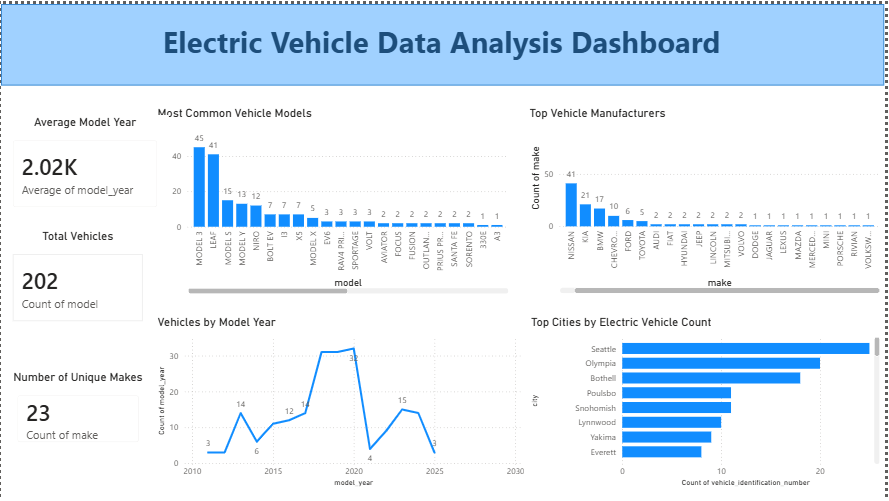

The dashboard page shown, as its layout file describes it:
{"tool":"powerbi","page":{"name":"Page 1","canvas":[1280,720],"ordinal":0},"visuals":[{"type":"cardVisual","title":"Average Model Year","fields":{"Data":["Avg(Sheet1.model_year)"]},"box":[0,200,230,134],"z":0},{"type":"cardVisual","title":"Total Vehicles","fields":{"Data":["CountNonNull(Sheet1.model)"]},"box":[0,388,214,130],"z":1000},{"type":"cardVisual","title":"Number of Unique Makes","fields":{"Data":["Count(Sheet1.make)"]},"box":[6,536,198,124],"z":2000},{"type":"shape","box":[0,0,1280,150],"z":3000},{"type":"textbox","box":[112,0,1056,150],"z":4000},{"type":"clusteredColumnChart","title":"Most Common Vehicle Models","fields":{"Y":["CountNonNull(Sheet1.model)"],"Category":["Sheet1.model"]},"box":[204,176,480,260],"z":4001},{"type":"clusteredColumnChart","title":"Top Vehicle Manufacturers","fields":{"Category":["Sheet1.make"],"Y":["CountNonNull(Sheet1.make)"]},"box":[704,176,576,260],"z":4002},{"type":"lineChart","title":"Vehicles by Model Year","fields":{"Category":["Sheet1.model_year"],"Y":["CountNonNull(Sheet1.model)"]},"box":[204,454,480,230],"z":4003},{"type":"clusteredBarChart","title":"Top Cities by Electric Vehicle Count","fields":{"Category":["Sheet1.city"],"Y":["CountNonNull(Sheet1.vehicle_identification_number)"]},"box":[704,464,576,240],"z":4004}]}

Visuals, with their boxes in screenshot pixels (x1, y1, x2, y2), scaled from the page's 1280x720 canvas onto the 889x501 screenshot:
"Average Model Year" cardVisual: {"left": 0, "top": 139, "right": 160, "bottom": 232}
"Total Vehicles" cardVisual: {"left": 0, "top": 270, "right": 149, "bottom": 360}
"Number of Unique Makes" cardVisual: {"left": 4, "top": 373, "right": 142, "bottom": 459}
shape: {"left": 0, "top": 0, "right": 888, "bottom": 104}
textbox: {"left": 78, "top": 0, "right": 811, "bottom": 104}
"Most Common Vehicle Models" clusteredColumnChart: {"left": 142, "top": 122, "right": 475, "bottom": 303}
"Top Vehicle Manufacturers" clusteredColumnChart: {"left": 489, "top": 122, "right": 888, "bottom": 303}
"Vehicles by Model Year" lineChart: {"left": 142, "top": 316, "right": 475, "bottom": 476}
"Top Cities by Electric Vehicle Count" clusteredBarChart: {"left": 489, "top": 323, "right": 888, "bottom": 490}
